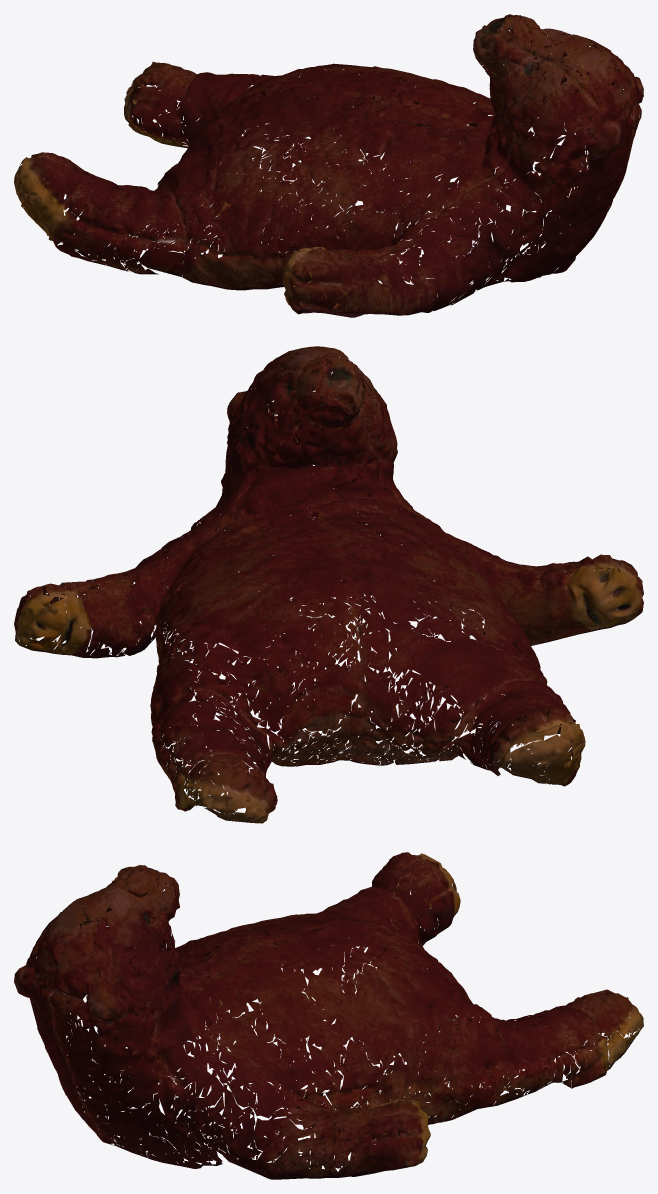
The model's file is djungelskog.glb.
3 renders of one model, top to bottom at view 1: azimuth 30°, elevation 25°; view 2: azimuth 150°, elevation 25°; view 3: azimuth 270°, elevation 25°, orthographic. The views are drawn at different scales.
Parts seen in each view (by area): view 1: Object_2; view 2: Object_2; view 3: Object_2.
Part boxes in pixels (x1=…): Object_2: x1=14, y1=14, x2=643, y2=317; Object_2: x1=14, y1=346, x2=643, y2=823; Object_2: x1=14, y1=852, x2=643, y2=1179.
Bounding box in the file's own units: 526 × 250 × 519.
Materials: 1 (1 with a texture image).
